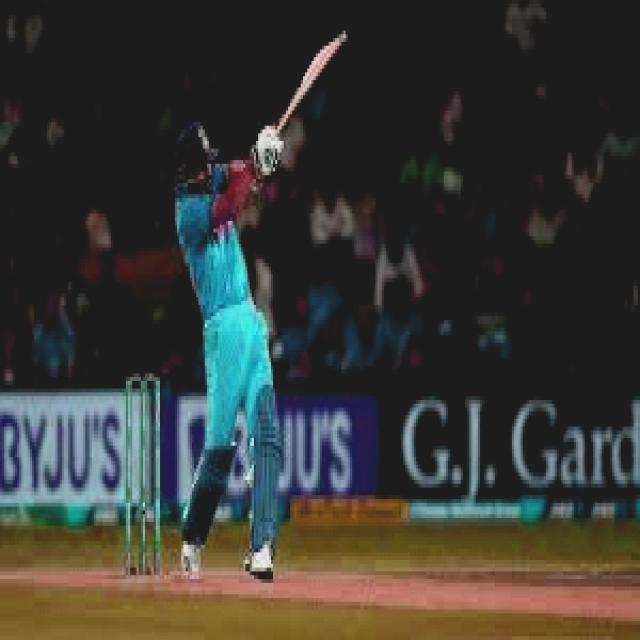toe: (330, 33, 350, 61)
